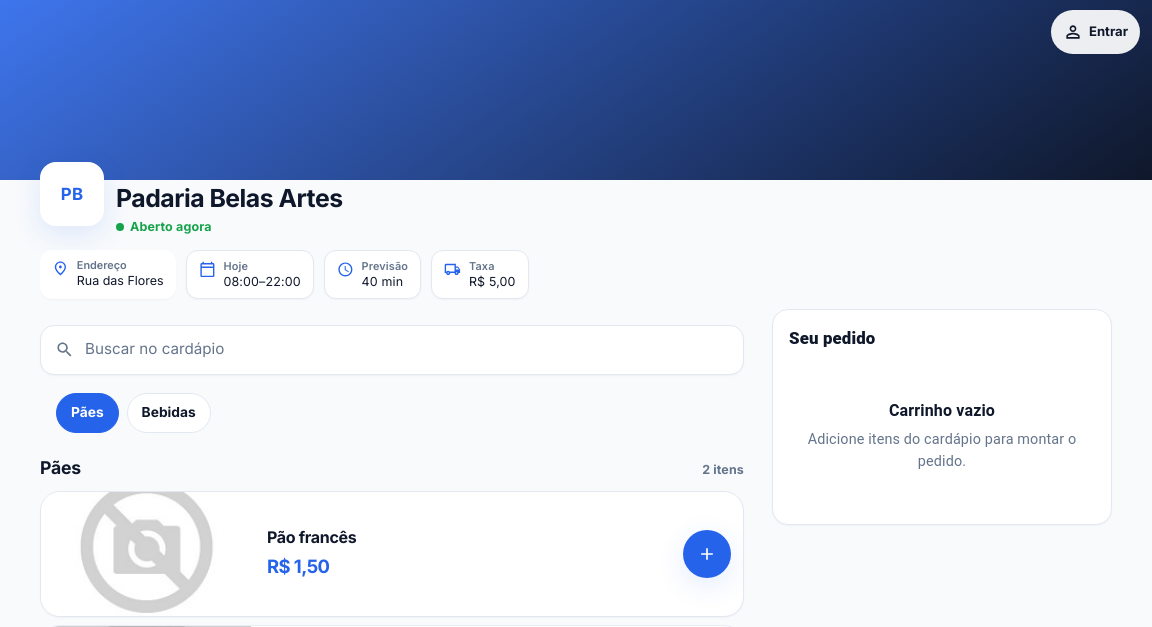
Test: PublicDelivery › abre o login pelo Entrar mesmo sem itens no carrinho
Click the button "Entrar": (1096, 32) [1051,10,1140,54]
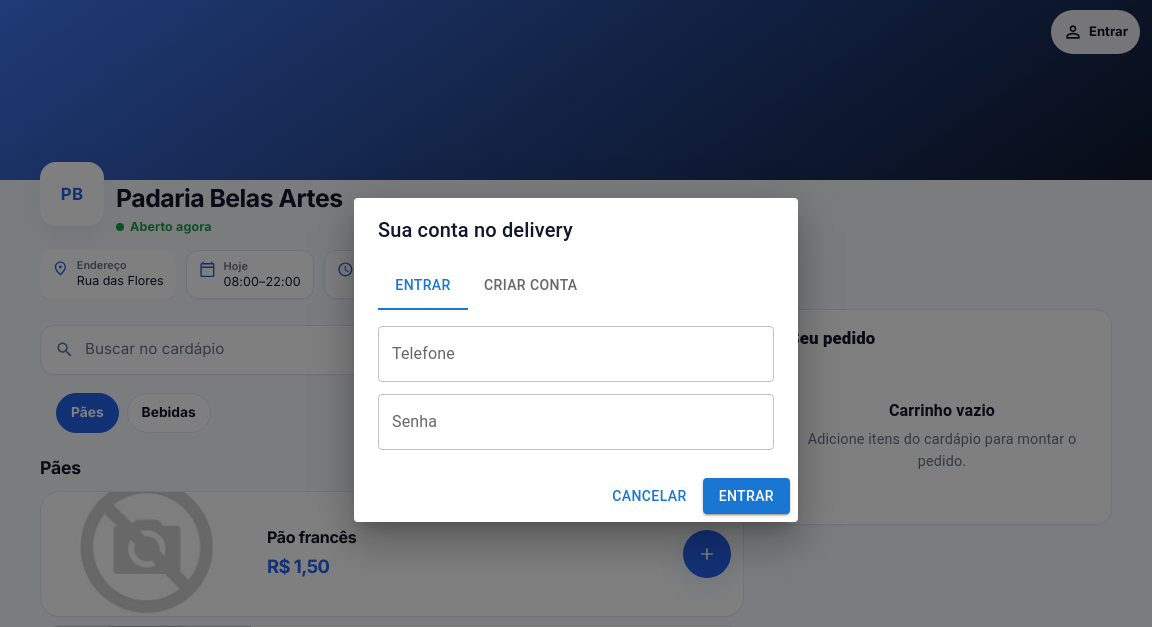
Expected: the heading "Sua conta no delivery" is shown, [378,218,573,242]
Expected: the field labelled "Telefone" is shown, [378,326,774,382]
